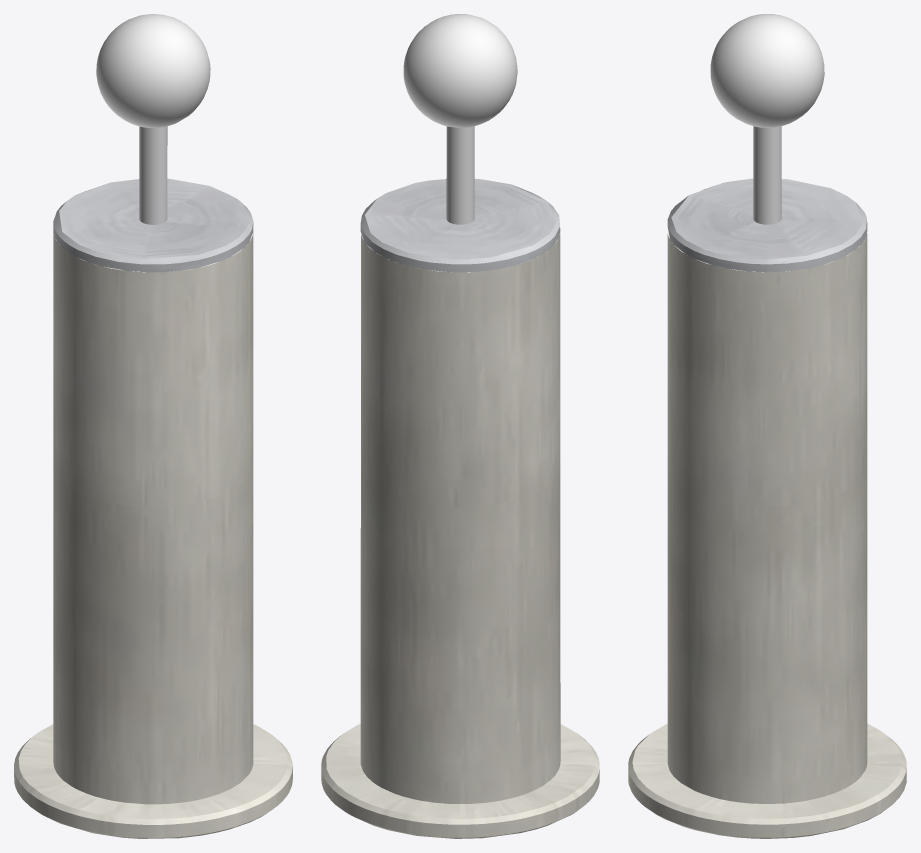
Rendered from ferro-orbis_king_white.glb.
3 views of the same model, side by side, from view 1: azimuth 30°, elevation 25°; view 2: azimuth 150°, elevation 25°; view 3: azimuth 270°, elevation 25° (orthographic).
Parts seen in each view (by area): view 1: ferro-orbis_king_white; view 2: ferro-orbis_king_white; view 3: ferro-orbis_king_white.
Boxes of the visible parts, box(x1,y1,x2,y2) form: ferro-orbis_king_white: box(14, 14, 292, 838); ferro-orbis_king_white: box(321, 14, 599, 838); ferro-orbis_king_white: box(628, 14, 906, 838).
Bounding box in the file's own units: 0.0331 × 0.1 × 0.0331.
Materials: 4 (2 with a texture image).
